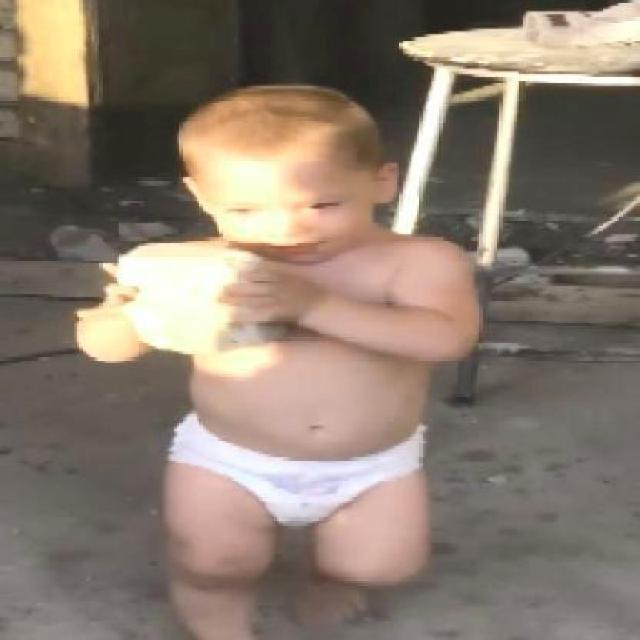child: (74, 85, 489, 638)
